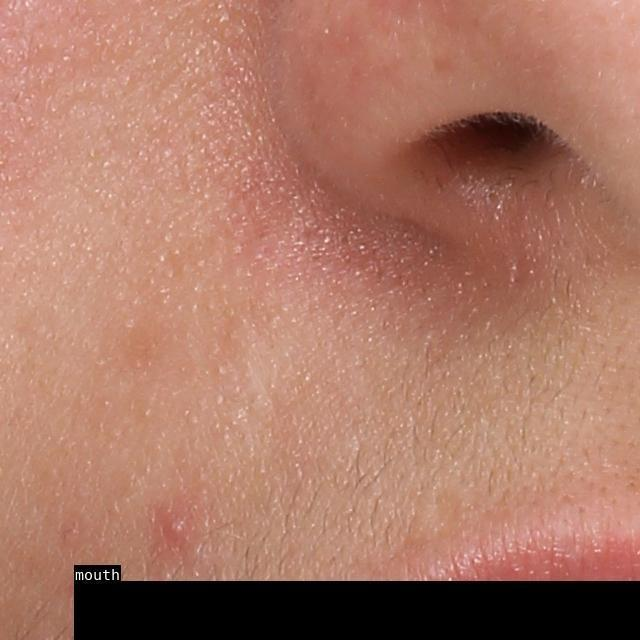papule: (161, 507, 195, 545)
